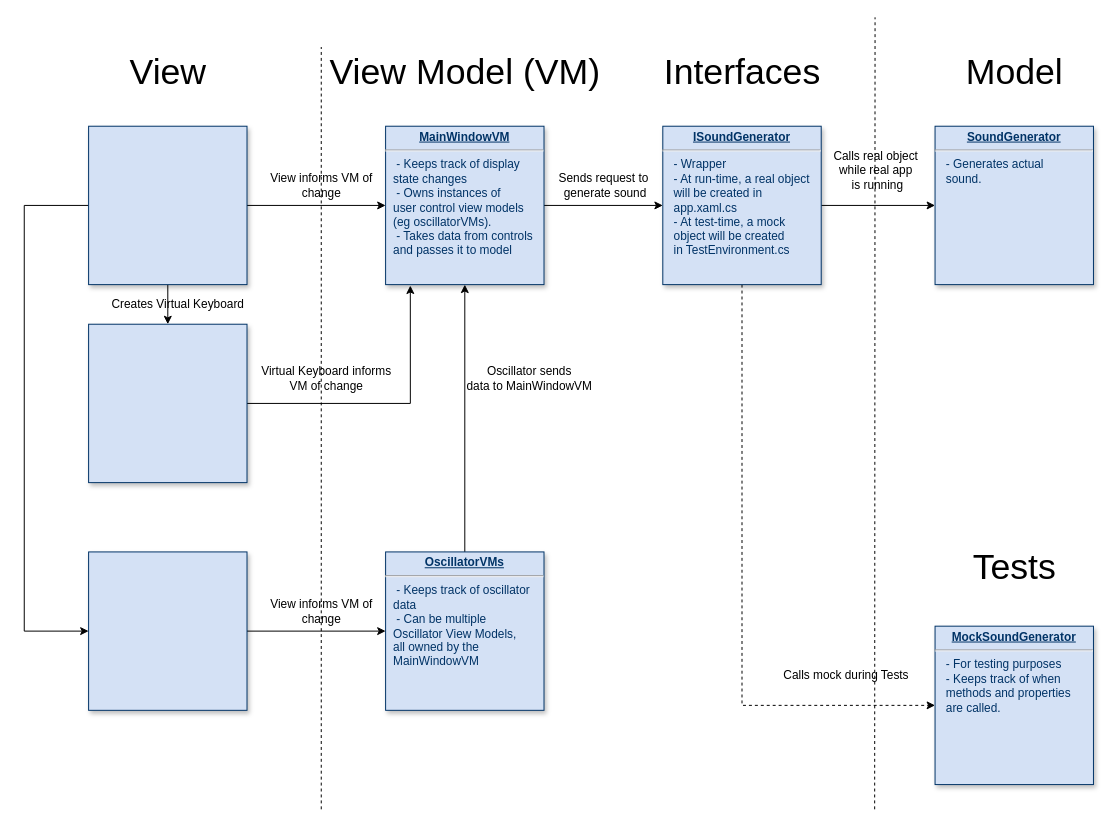
Image size: 1117x828. Some labels were removed from this diagram. The shapes that lost their labels are listed below. From the top down, each one's centre as x and y in pixels, then its label:
At [168,206]: "MainWindow - Listens to user input - Owns UserControls (eg Oscillators)".
At [168,404]: "Virtual Keyboard Listens to 'keyDown' event".
At [168,632]: "Oscillators Listen to user inputs on oscillator controls".
